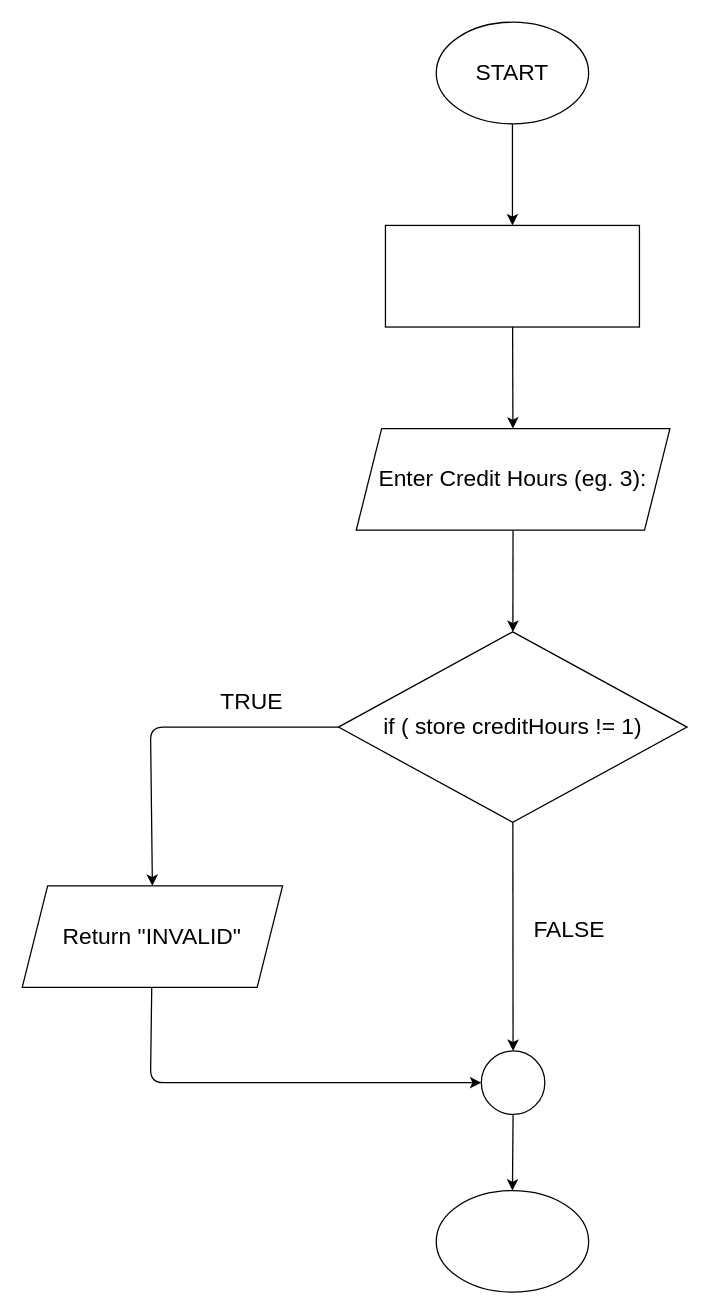
The diagram is 710 pixels wide and 1314 high, and some of its shapes have lost their labels. The centre of each missing label's shape, as x and y in pixels:
"Declear creditHouts" goes at [511,275].
"END" goes at [512,1240].
